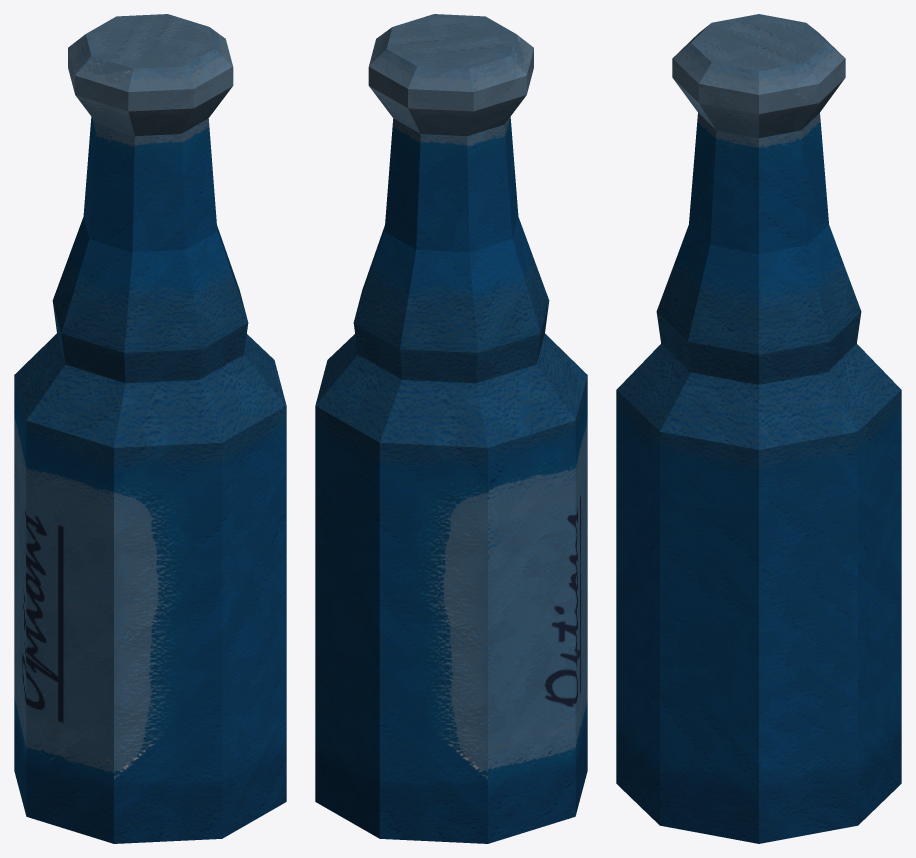
The model's file is bottle_opt.fbx.
The picture shows the model from 3 angles, left to right: view 1: azimuth 30°, elevation 25°; view 2: azimuth 150°, elevation 25°; view 3: azimuth 270°, elevation 25°; orthographic projection.
Visible parts, largest first — view 1: Cube; view 2: Cube; view 3: Cube.
Boxes of the visible parts, x1,y1,x2,y2 form: Cube: (14, 14, 286, 843); Cube: (315, 14, 587, 843); Cube: (616, 14, 901, 843).
Bounding box in the file's own units: 200 × 574 × 200.
